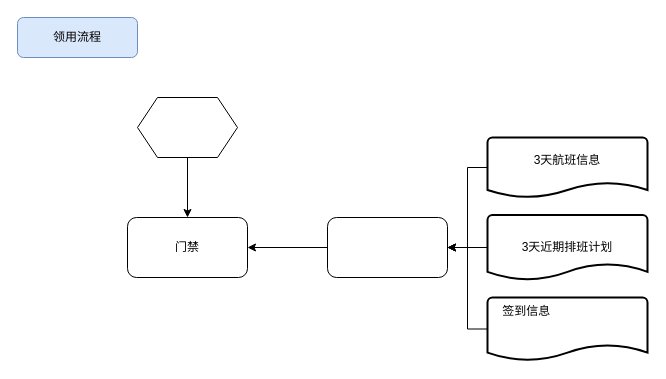
Image size: 666x379. Some labels were removed from this diagram. Here are the shapes that lost their labels. From the top down, the centre of each, then its label:
At [187,127]: "开始".
At [387,247]: "本地服务器每5分钟 调用接口".
